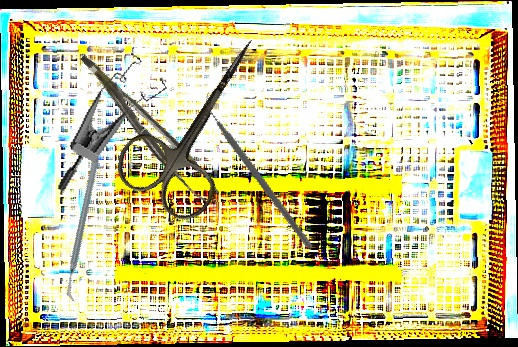Chopper: (168, 90, 352, 249), (17, 153, 151, 303)
Iris Scissors: (106, 13, 297, 229)
Speculum: (54, 42, 175, 213)
Tissue Forceps: (80, 40, 220, 211)
